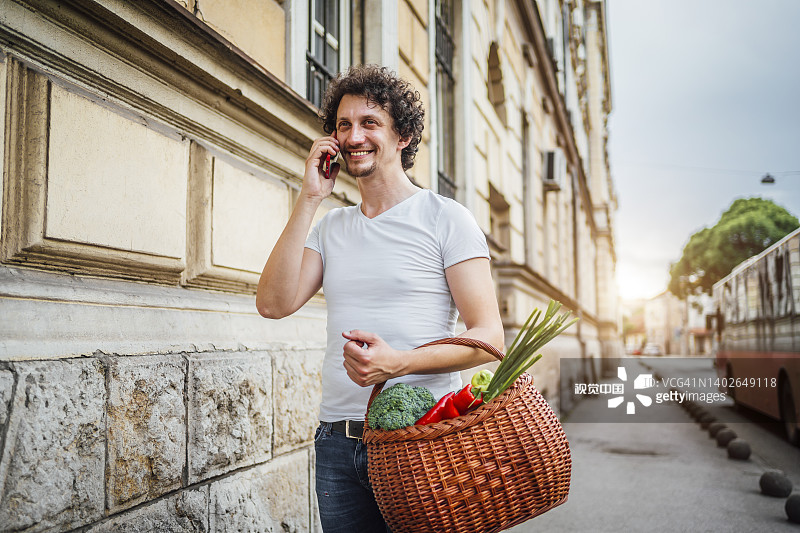calling: (295, 121, 357, 213)
no-phone: (334, 324, 422, 398)
